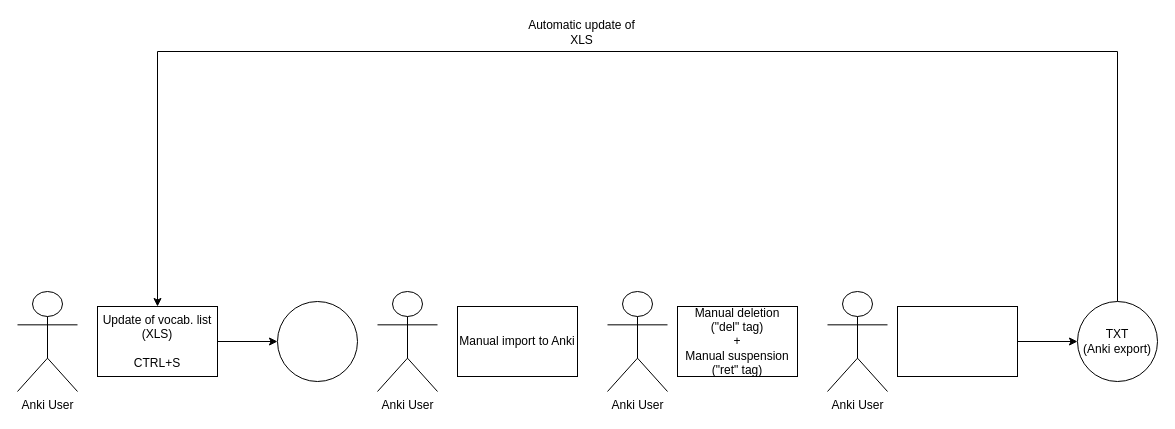
This 1175x429 diagram has some shape labels left out. The centre of each missing label's shape, as x and y in pixels:
Manual export from Anki: TXT: the point at 957,341
TXT (Anki): the point at 317,341
